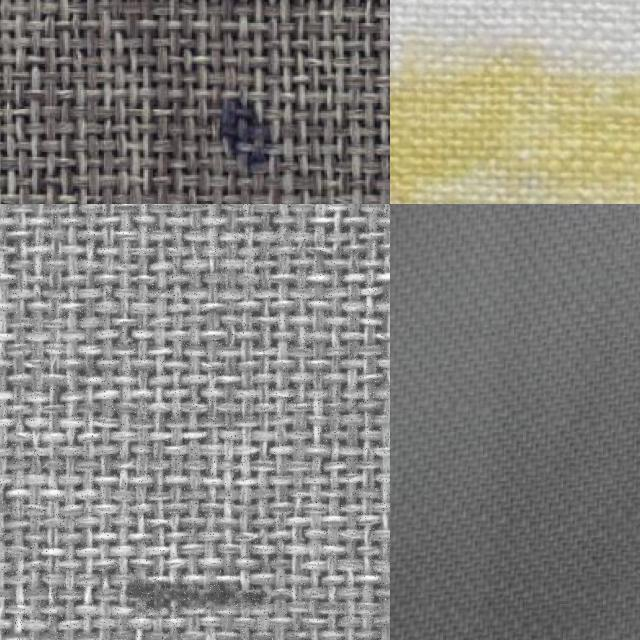Hole: (390, 9, 640, 204), (102, 534, 293, 640), (178, 78, 300, 180)
